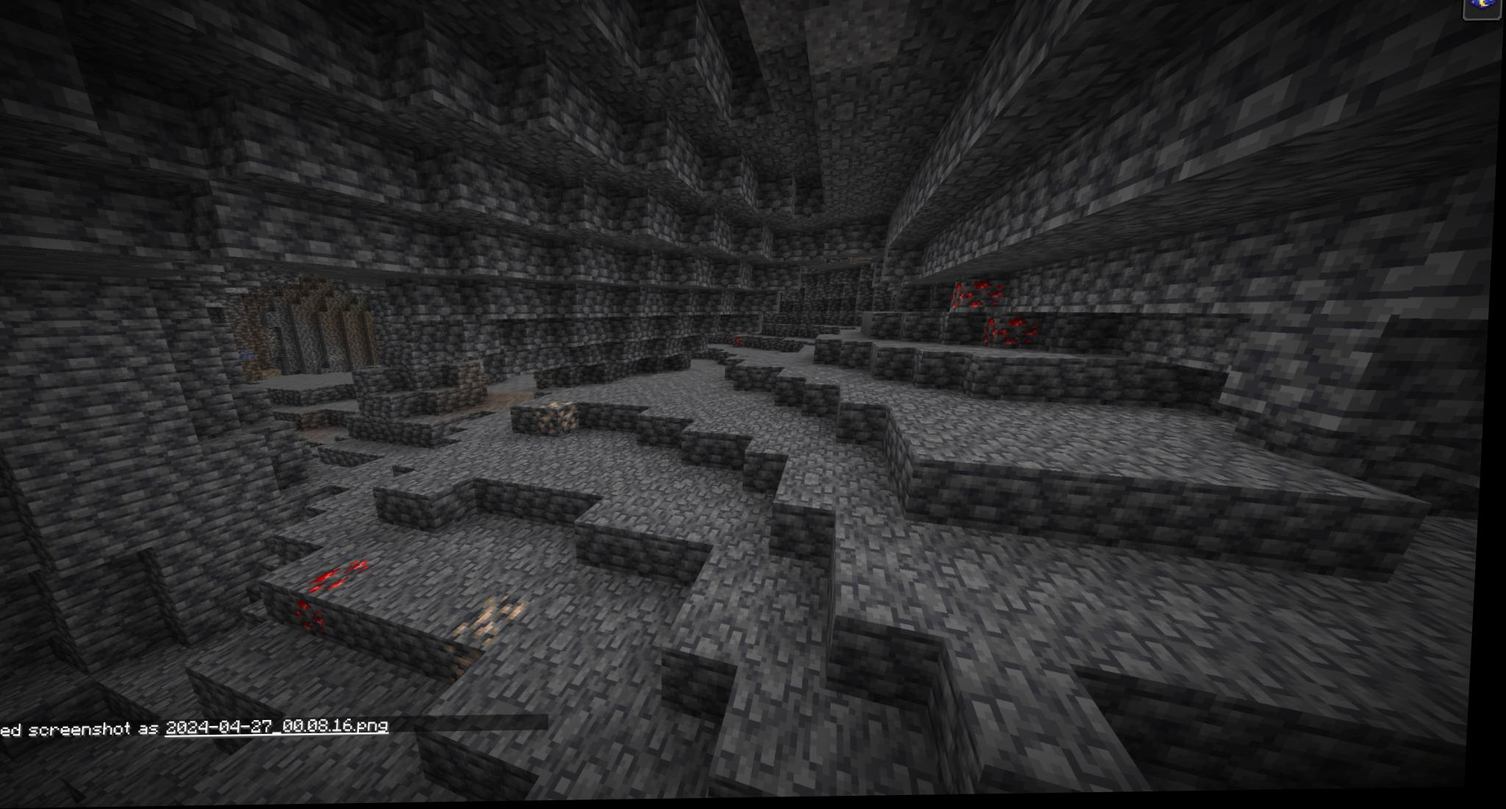iron ore: (449, 597, 527, 659), (539, 402, 587, 434)
redstone ore: (298, 555, 368, 630), (950, 274, 1014, 323), (988, 310, 1043, 356)
